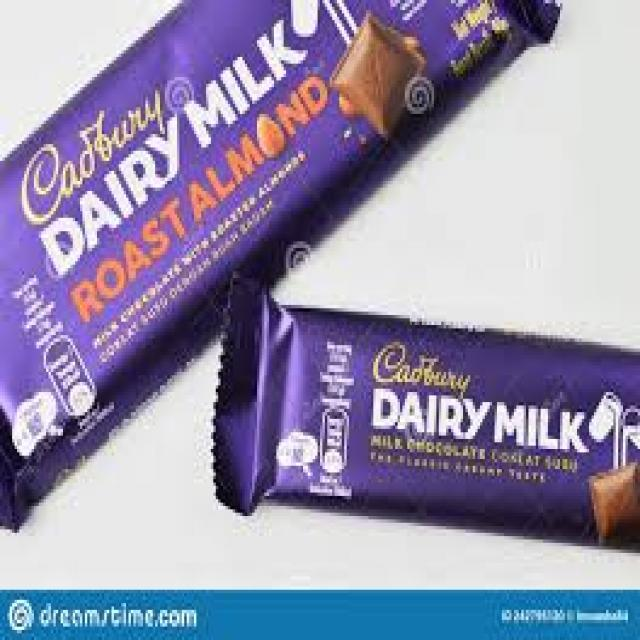cadbury: (0, 0, 560, 519), (222, 283, 640, 555)
